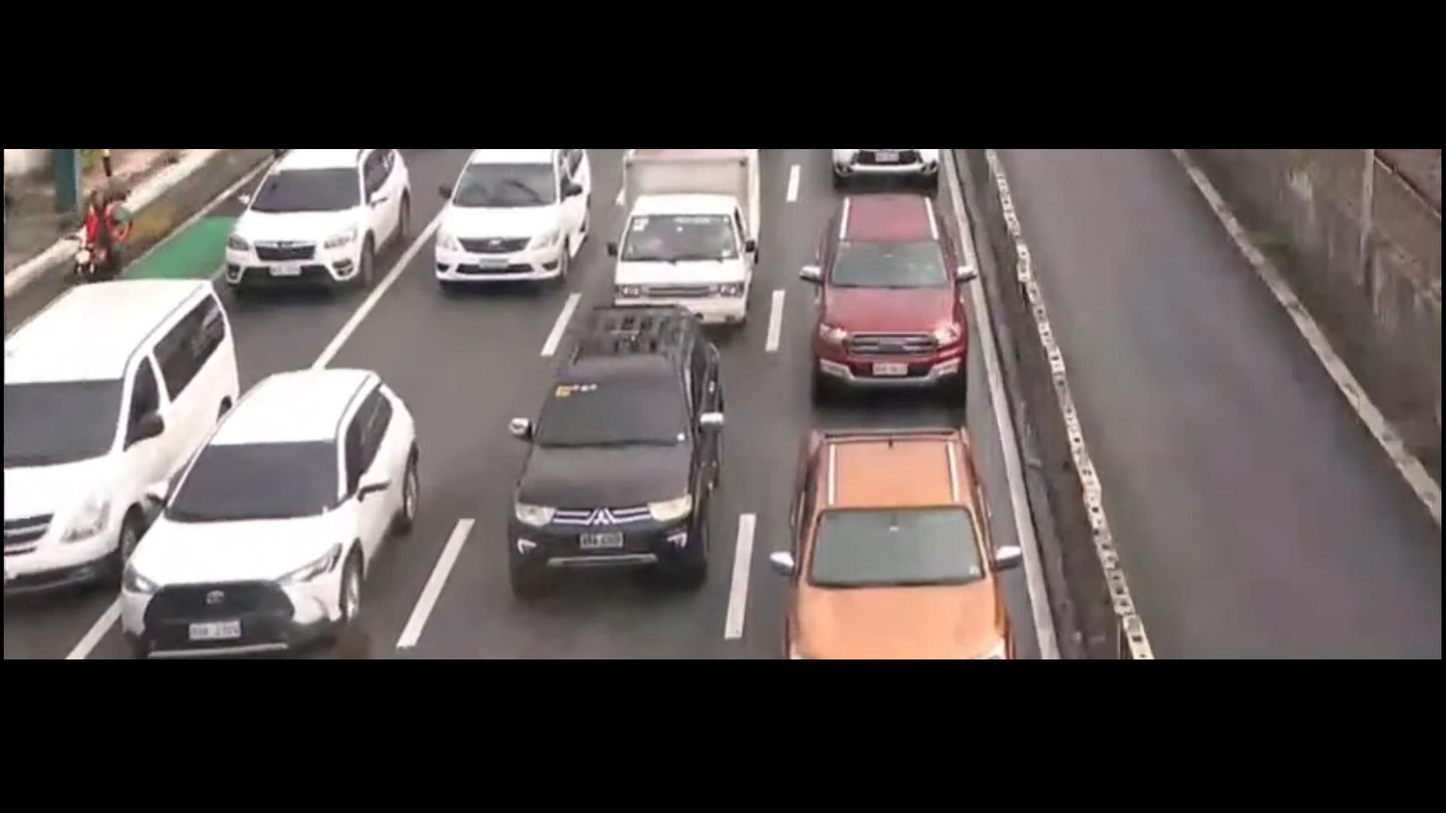Motorcycle: (64, 173, 140, 304)
SUV: (113, 368, 420, 655), (499, 297, 726, 589), (794, 423, 1019, 663), (807, 190, 972, 399), (230, 149, 414, 288), (437, 147, 600, 286)
Truck: (610, 143, 773, 333)
Van: (0, 285, 238, 584)
